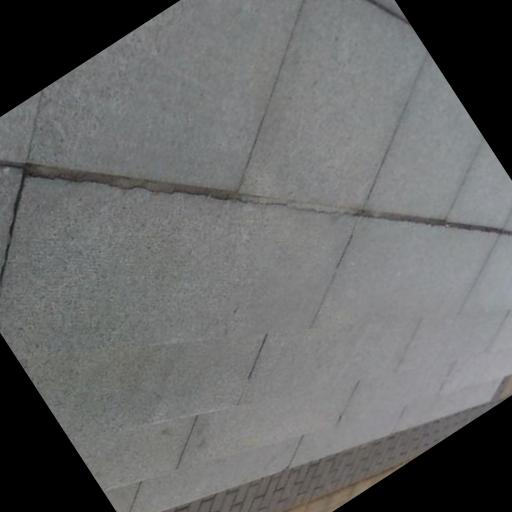stairs: (0, 175, 511, 511)
